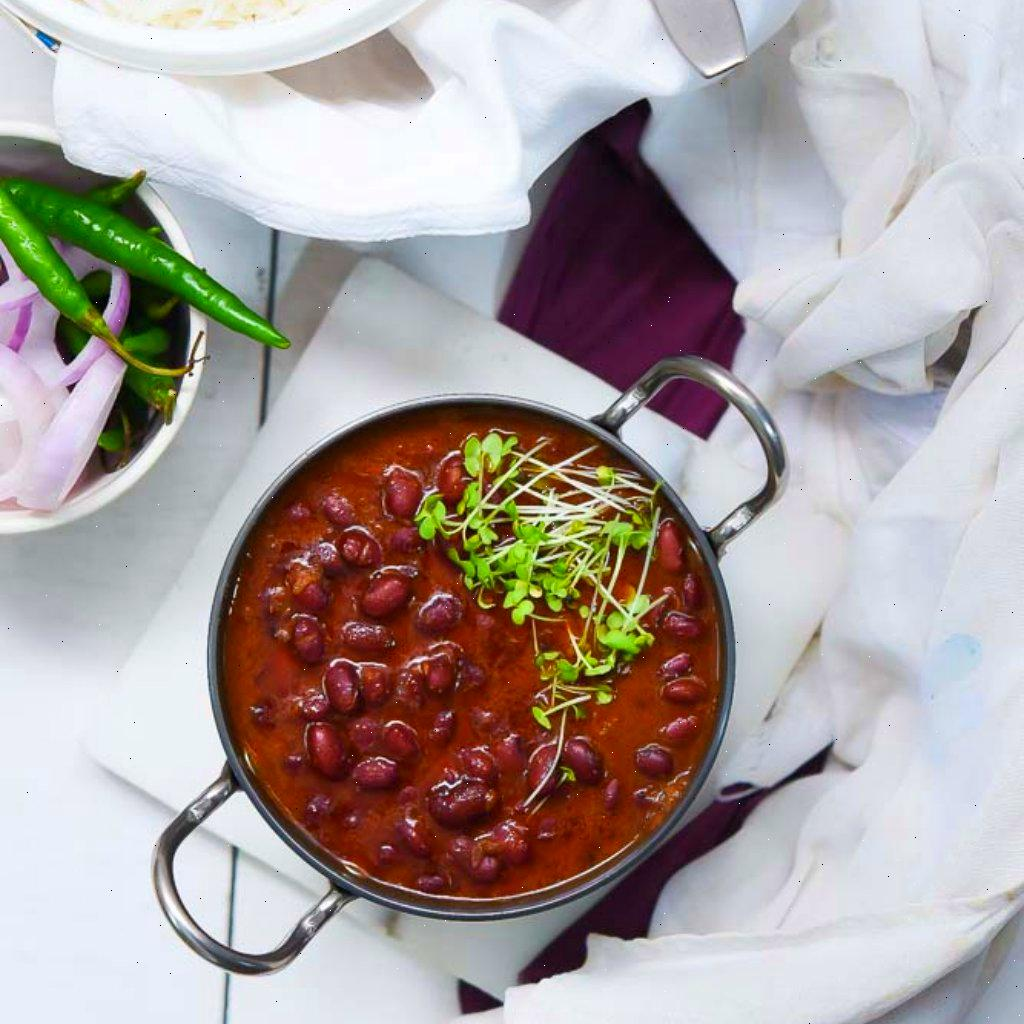rajma: (242, 422, 698, 958)
